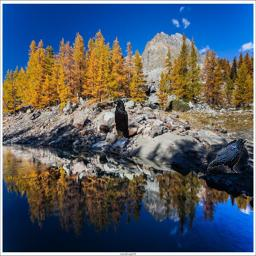Crow: (207, 138, 247, 173), (113, 99, 129, 139)
